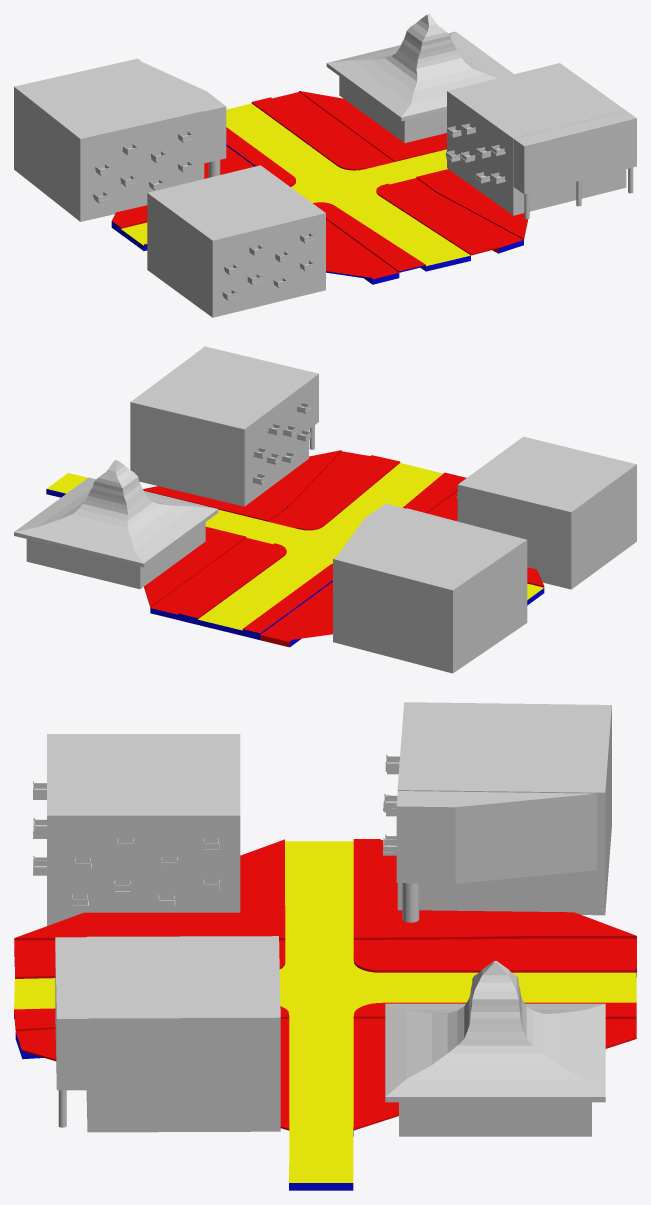
File: Pws Omgeving 4.fbx
The picture shows the model from 3 angles, top to bottom: view 1: azimuth 30°, elevation 25°; view 2: azimuth 150°, elevation 25°; view 3: azimuth 270°, elevation 25°; orthographic projection. The views are drawn at different scales.
Parts seen in each view (by area): view 1: Cube, Cube.019, Cube.020, Cube.017, Cube.167; view 2: Cube, Cube.019, Cube.020, Cube.017, Cube.167; view 3: Cube, Cube.019, Cube.020, Cube.017, Cube.167.
Part boxes in pixels (<box>): Cube: <box>111,91,528,284</box>; Cube.019: <box>14,58,226,221</box>; Cube.020: <box>446,63,636,219</box>; Cube.017: <box>147,165,325,317</box>; Cube.167: <box>326,14,513,143</box>; Cube: <box>46,450,544,647</box>; Cube.019: <box>333,503,527,673</box>; Cube.020: <box>130,346,318,506</box>; Cube.017: <box>456,436,636,589</box>; Cube.167: <box>14,460,218,589</box>; Cube: <box>14,839,636,1190</box>; Cube.019: <box>383,702,611,922</box>; Cube.020: <box>55,936,280,1132</box>; Cube.017: <box>33,734,240,925</box>; Cube.167: <box>385,961,605,1136</box>.
Bounding box in the file's own units: 10787 × 2122 × 7931.
